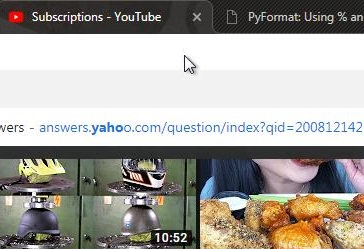cursor: (180, 52, 199, 76)
